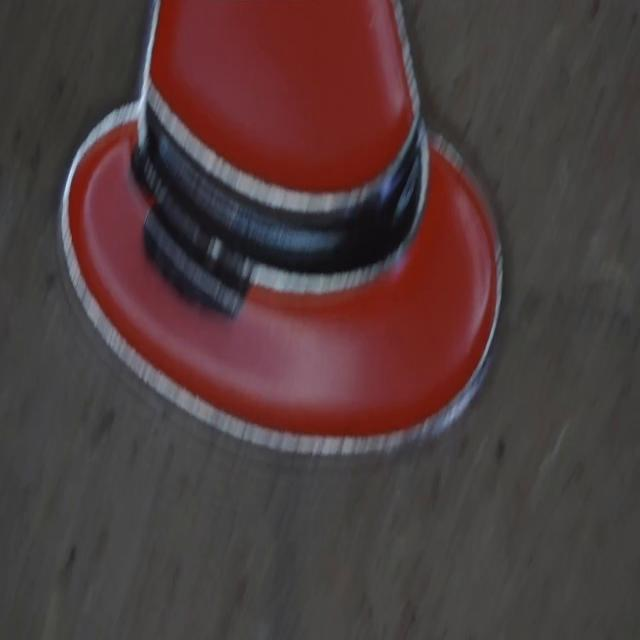Hatband: (150, 87, 429, 271)
Paint_Leak: (132, 149, 254, 314)
RedHatPin: (61, 0, 501, 453)
